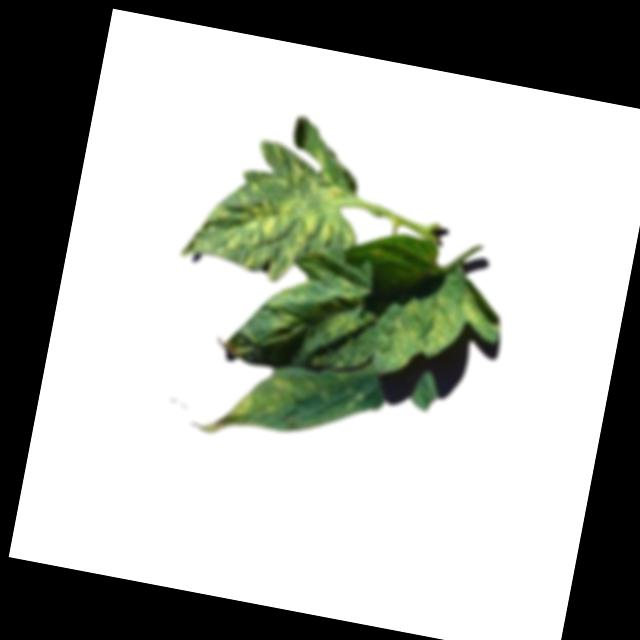Leaf_Mold: (178, 128, 373, 294), (384, 278, 505, 388), (194, 360, 305, 447)
